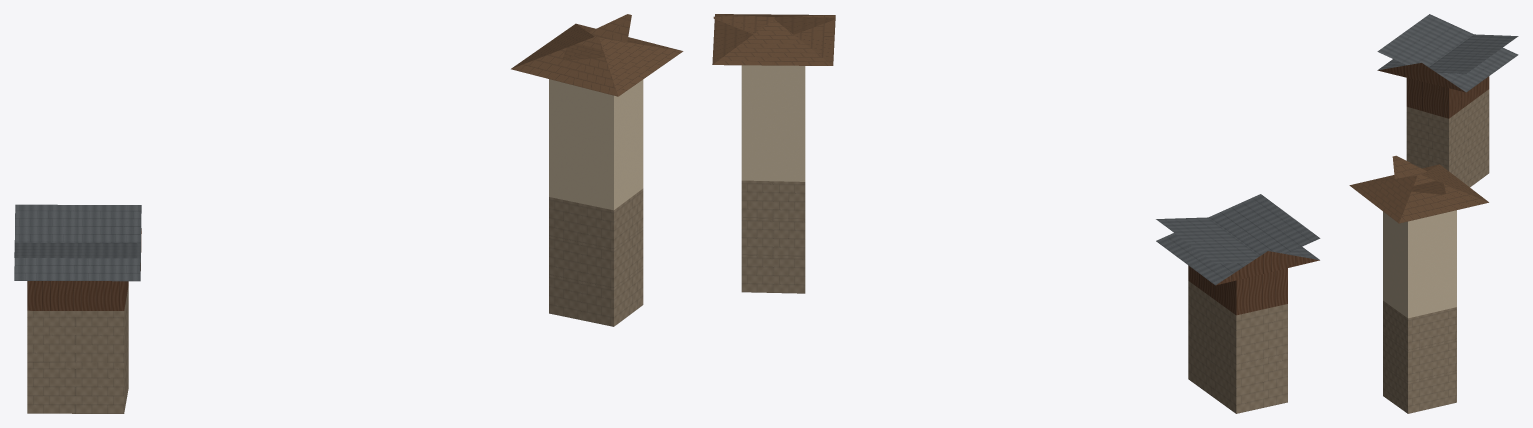
The model's file is bld_c-3_17_531.gltf.
3 views of the same model, side by side, from view 1: azimuth 30°, elevation 25°; view 2: azimuth 150°, elevation 25°; view 3: azimuth 270°, elevation 25° (orthographic). The views are drawn at different scales.
Visible parts, largest first — view 1: bld_c-3_17_531; view 2: bld_c-3_17_531; view 3: bld_c-3_17_531.
Part boxes in pixels (bbox=[...]): bld_c-3_17_531: bbox=[14, 14, 683, 413]; bld_c-3_17_531: bbox=[712, 14, 1320, 413]; bld_c-3_17_531: bbox=[1349, 14, 1518, 413].
Size of the model in its own units: 29.79 by 11.9 by 8.2.
6 materials, 6 textured.
